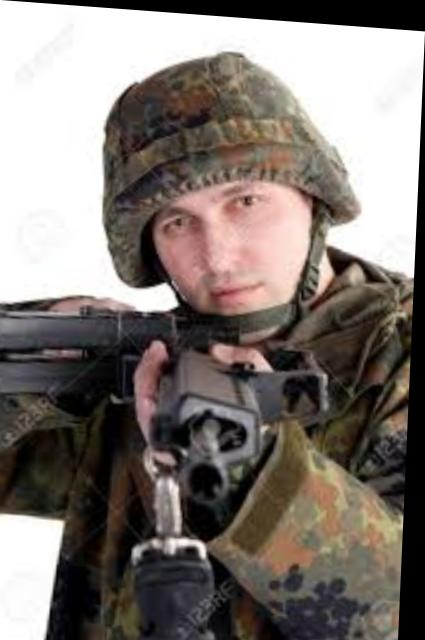other: (0, 38, 422, 640)
